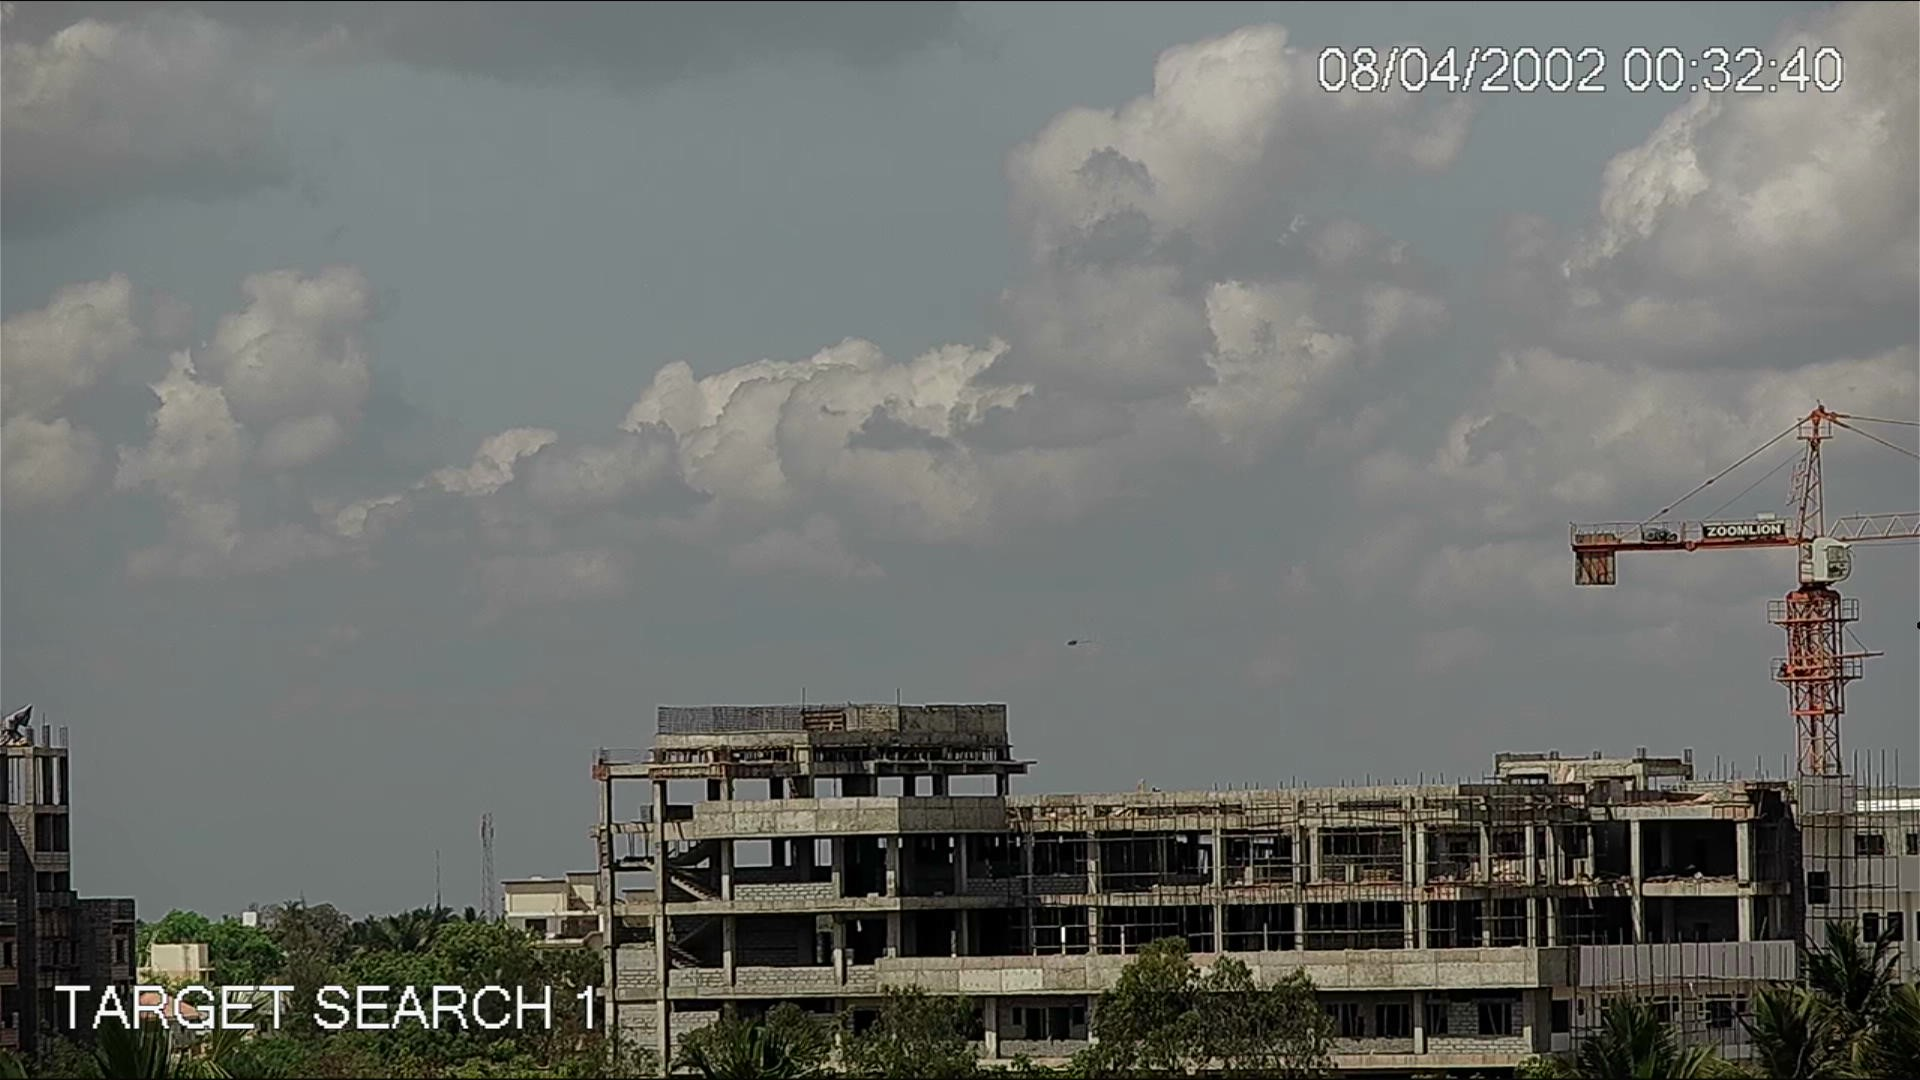SU_30: (1064, 637, 1097, 649)
